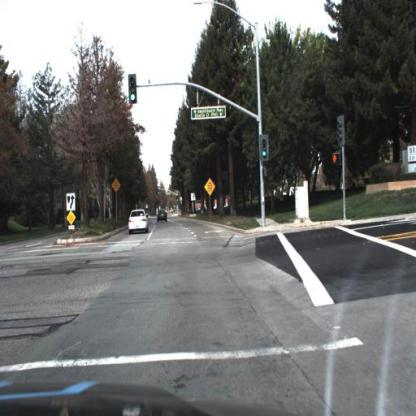car: (128, 209, 150, 235), (157, 207, 169, 223)
trafficLight-Green: (259, 133, 270, 162), (127, 74, 138, 102)
